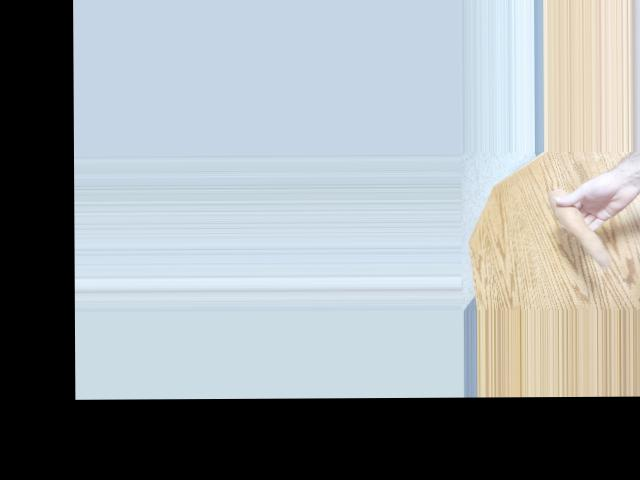sweet_potato: (552, 189, 613, 267)
